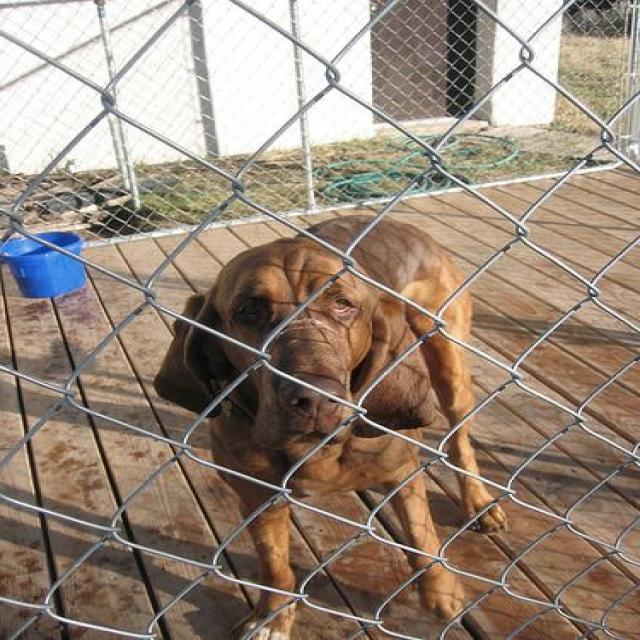bloodhound: (153, 208, 507, 638)
